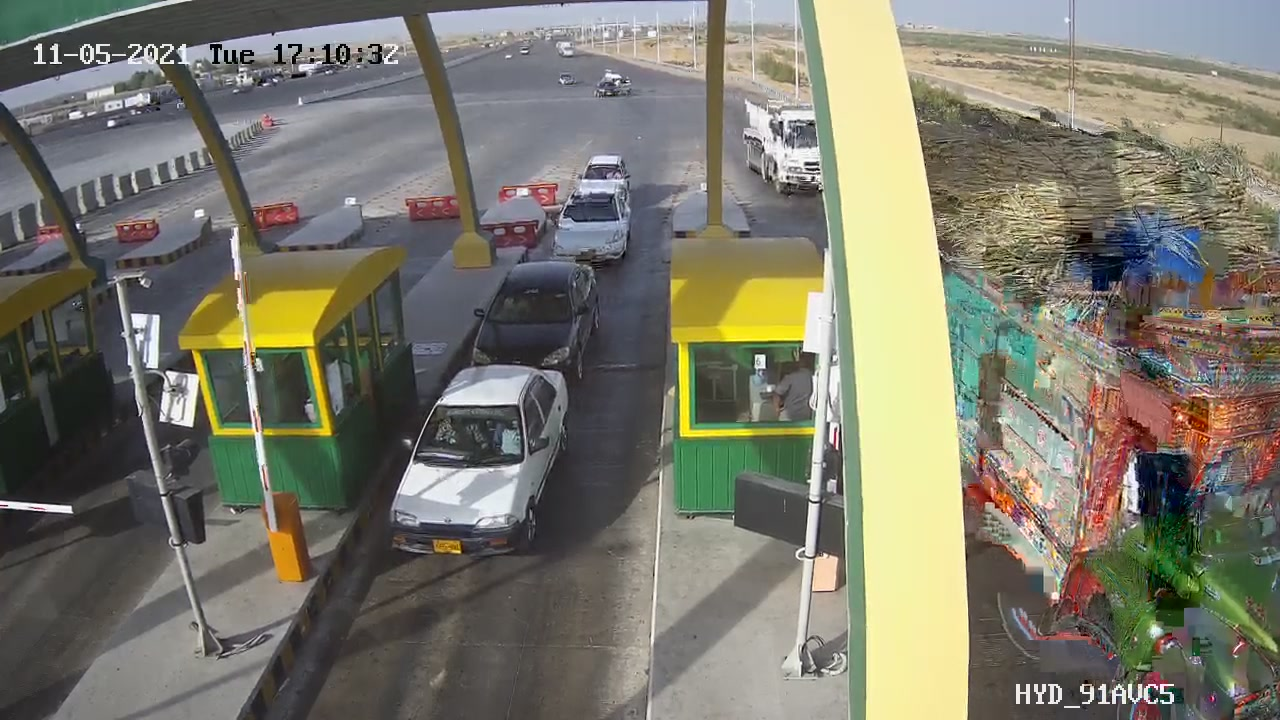F1: (377, 355, 589, 581), (451, 249, 616, 408)
